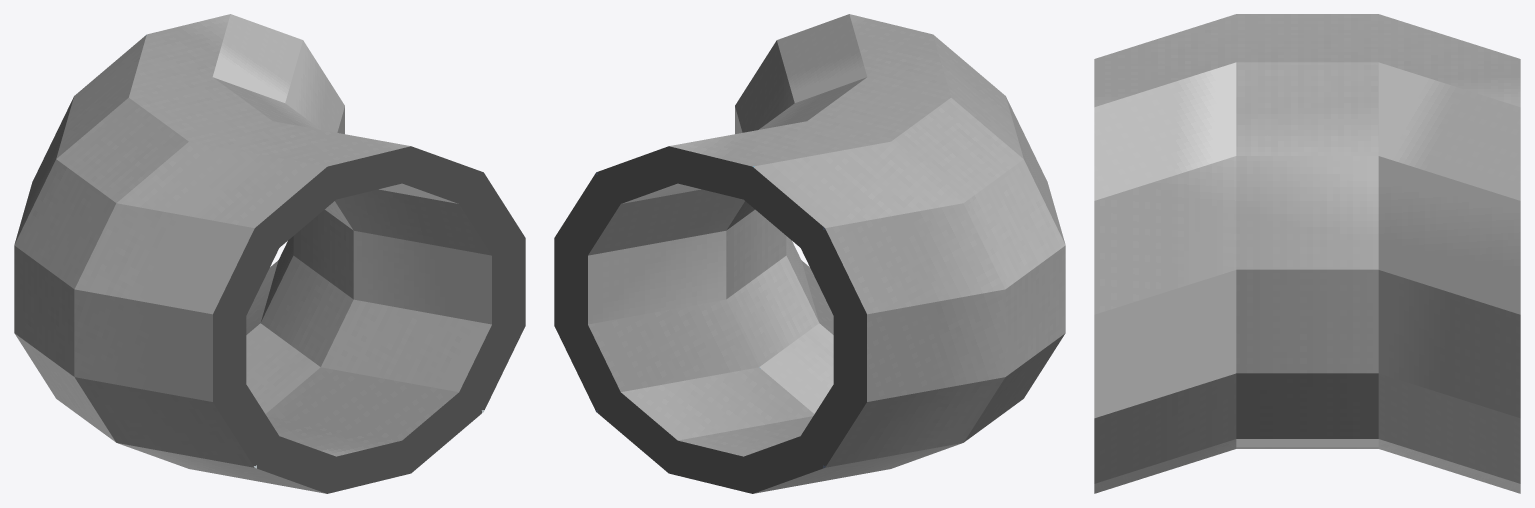
The model's file is elbow.gltf.
The picture shows the model from 3 angles, left to right: view 1: azimuth 30°, elevation 25°; view 2: azimuth 150°, elevation 25°; view 3: azimuth 270°, elevation 25°; orthographic projection. The views are drawn at different scales.
Visible parts, largest first — view 1: elbow; view 2: elbow; view 3: elbow.
Part boxes in pixels (<box>): elbow: <box>14,14,525,493</box>; elbow: <box>554,14,1065,493</box>; elbow: <box>1094,14,1520,493</box>.
Size of the model in its own units: 1.25 by 1 by 1.
1 material, 1 textured.
